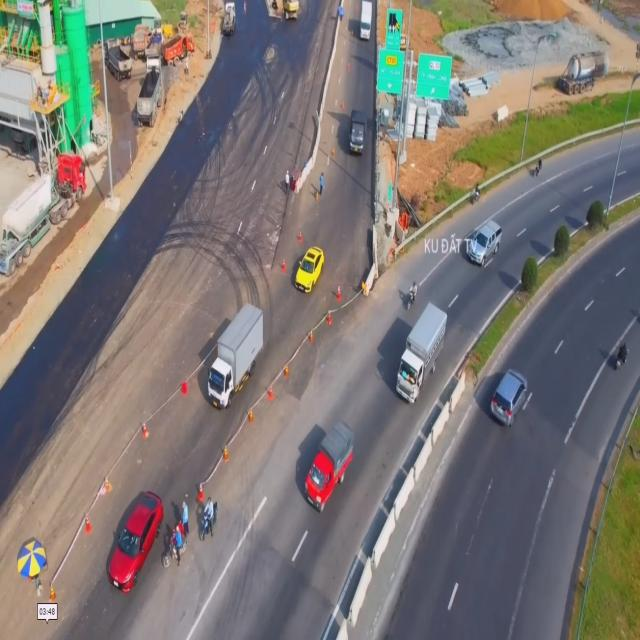car: (105, 489, 164, 595), (489, 362, 529, 433), (466, 220, 502, 267), (296, 244, 324, 292)
motorbike: (162, 528, 189, 570), (196, 499, 218, 543), (616, 340, 629, 374), (407, 282, 417, 308)
truck: (209, 306, 262, 415), (395, 304, 449, 402), (304, 419, 355, 515), (348, 109, 366, 156), (359, 0, 372, 38)
